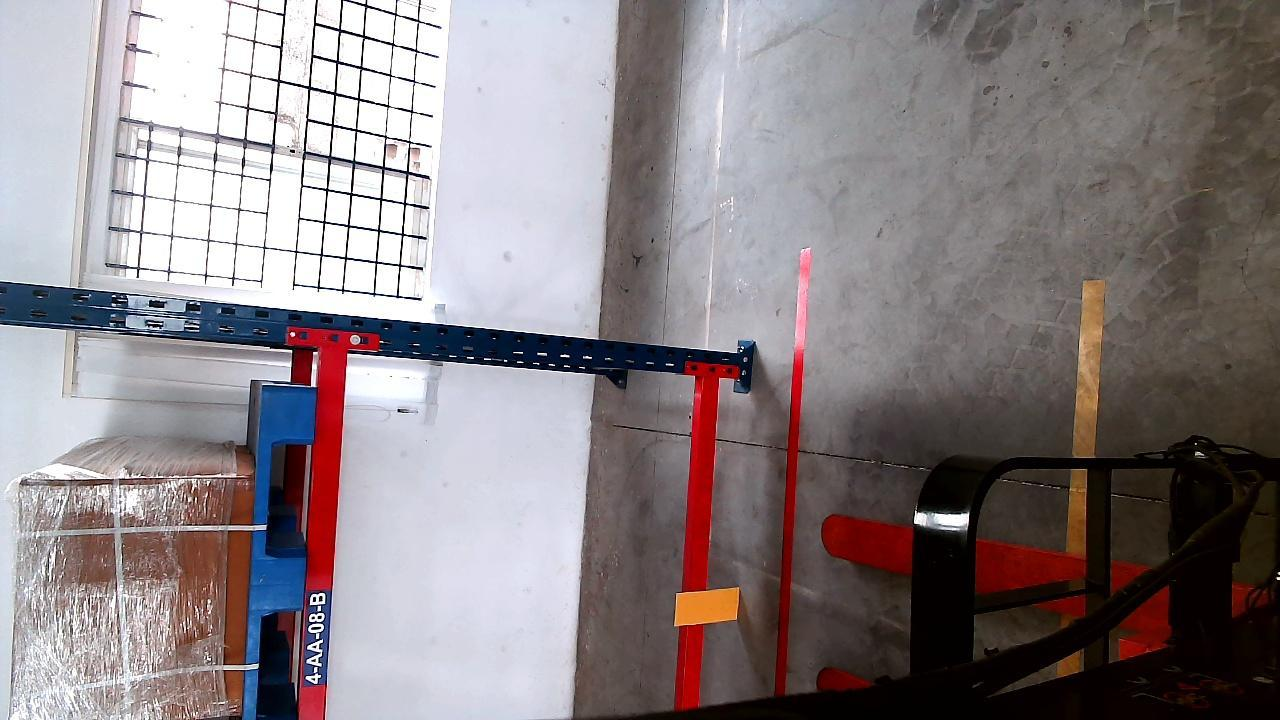red_line: (771, 245, 811, 697)
yellow_line: (1067, 277, 1107, 560)
